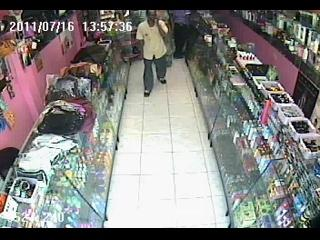Normal: (136, 11, 170, 98), (170, 11, 191, 60)
